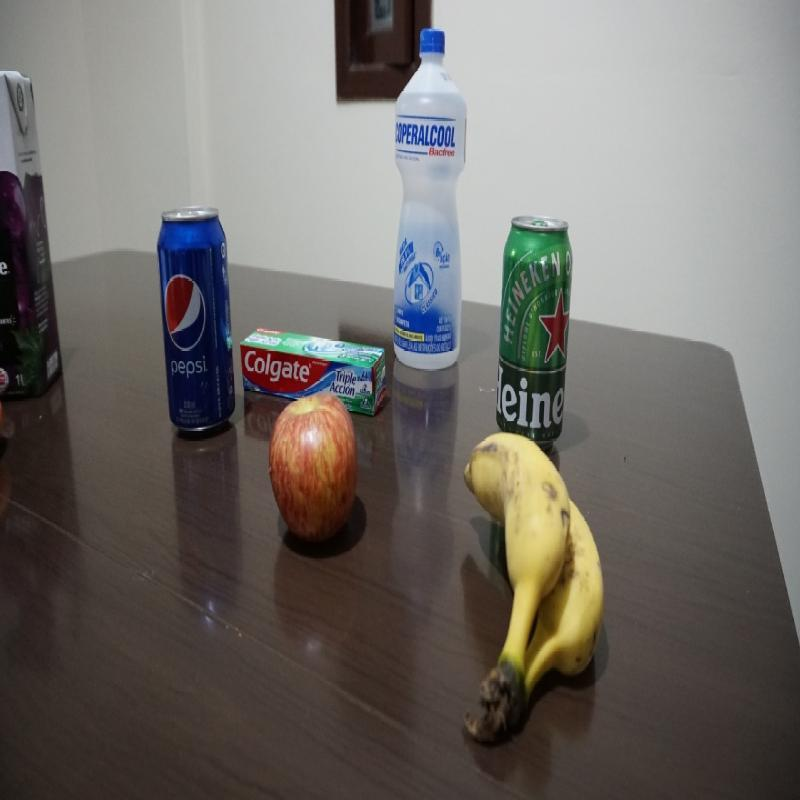Alcohol Bottle: (392, 28, 466, 372)
Banana: (464, 434, 606, 748)
Beer can: (494, 214, 575, 453)
Soda can: (158, 207, 237, 442)
Toothpaste: (239, 325, 389, 418)
